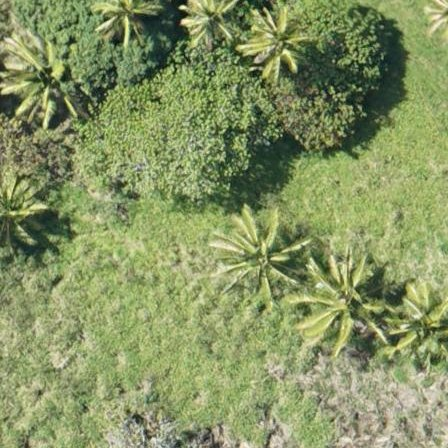palm_tree: (3, 37, 75, 120), (221, 215, 291, 289), (310, 261, 379, 335), (391, 287, 448, 357), (1, 177, 48, 246), (248, 11, 306, 66), (102, 1, 157, 47), (190, 1, 239, 45)
